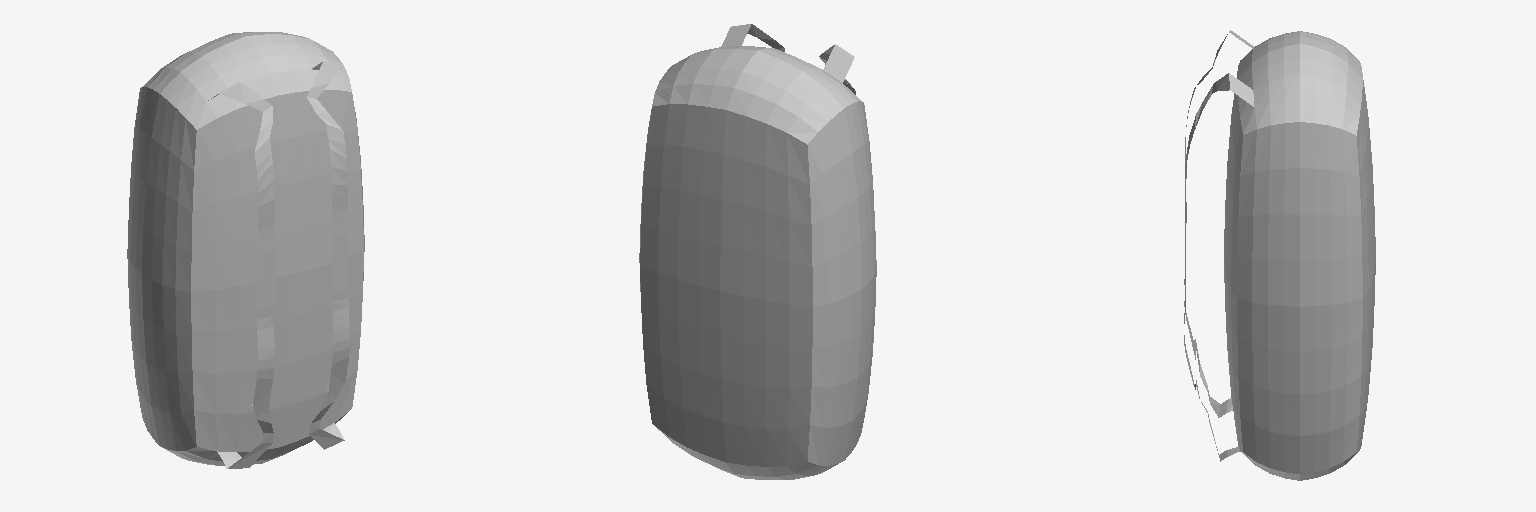
Rendered from backpack_4.obj.
3 renders of one model, left to right at view 1: azimuth 30°, elevation 25°; view 2: azimuth 150°, elevation 25°; view 3: azimuth 270°, elevation 25°, orthographic.
Visible parts, largest first — view 1: Cube_Cube.037; view 2: Cube_Cube.037; view 3: Cube_Cube.037.
Part boxes in pixels (x1,y1,x2,y2): Cube_Cube.037: (127,32,364,468); Cube_Cube.037: (639,24,876,479); Cube_Cube.037: (1184,30,1375,480).
Size of the model in its own units: 0.7388 by 1.44 by 0.5886.